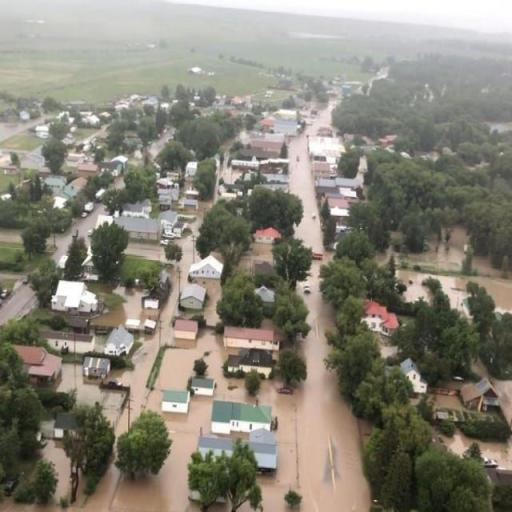flood: (110, 330, 257, 512), (256, 331, 370, 512), (294, 263, 370, 512), (0, 401, 127, 512), (397, 271, 512, 319), (57, 364, 127, 428), (113, 330, 158, 423), (289, 134, 324, 252), (94, 286, 160, 327), (409, 226, 466, 270), (161, 267, 178, 344), (306, 101, 335, 136), (178, 235, 192, 288), (473, 254, 502, 277), (209, 504, 230, 512), (238, 503, 254, 512), (361, 427, 365, 433)
house: (224, 322, 284, 380), (196, 430, 278, 469), (208, 399, 273, 436), (10, 342, 64, 386), (49, 281, 95, 315), (186, 250, 224, 286), (464, 378, 498, 412), (368, 300, 398, 336), (104, 322, 133, 356), (127, 217, 162, 243), (178, 283, 208, 313), (161, 388, 190, 414), (174, 316, 198, 342), (83, 356, 111, 378), (401, 358, 420, 385), (253, 224, 280, 243), (191, 378, 217, 396), (102, 161, 122, 179), (161, 210, 179, 228), (184, 161, 198, 182)
